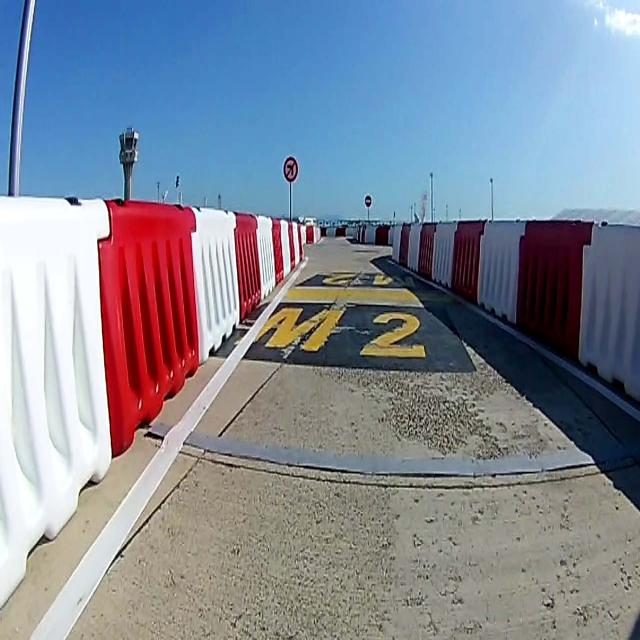girisyok: (364, 195, 372, 209)
soladonulmez: (283, 157, 298, 183)
